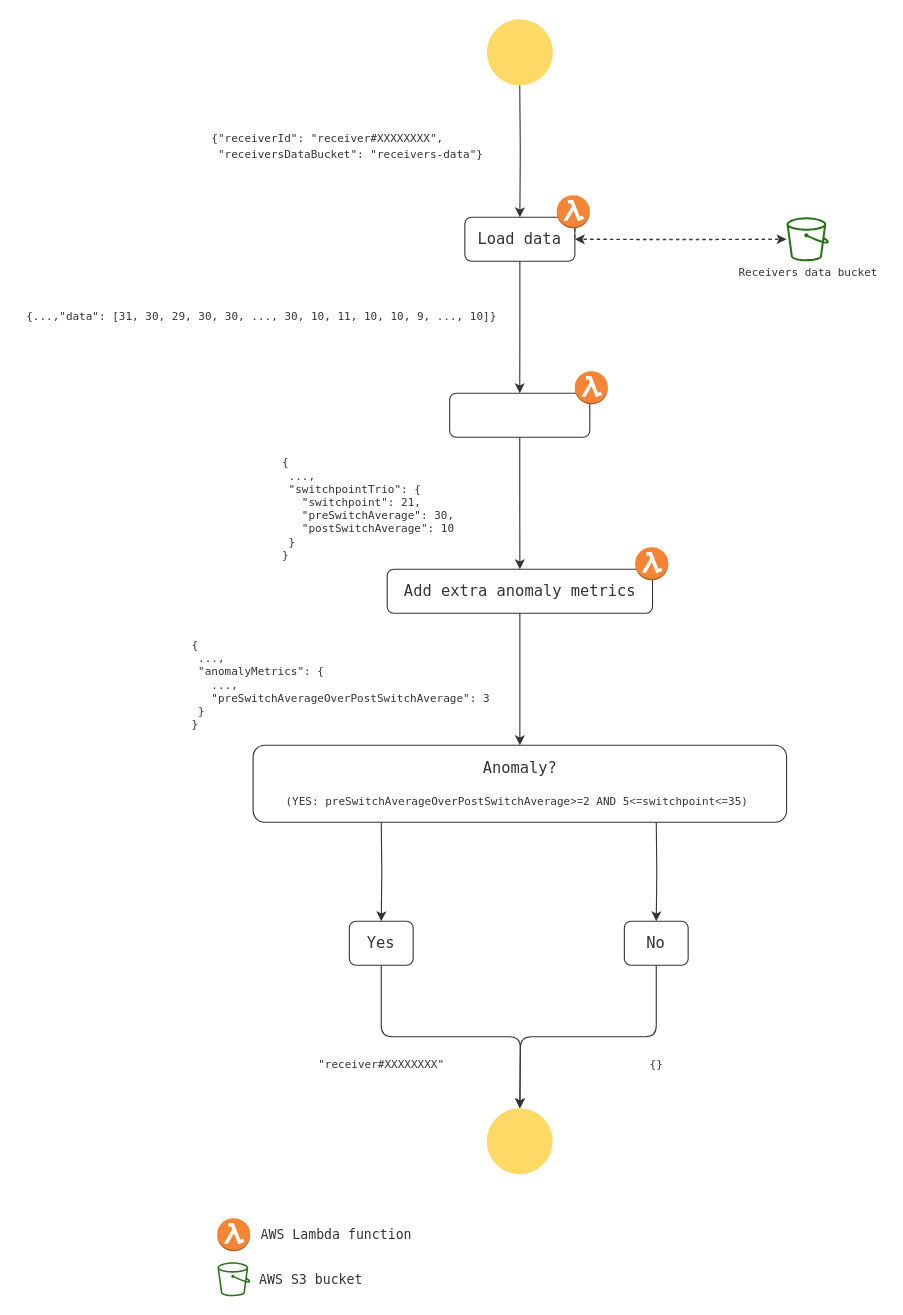
The diagram is 903 pixels wide and 1315 high, and some of its shapes have lost their labels. Each missing label, with the centre of its shape:
Dissect data: point 519,414
End: point 519,1141
Start: point 519,52
